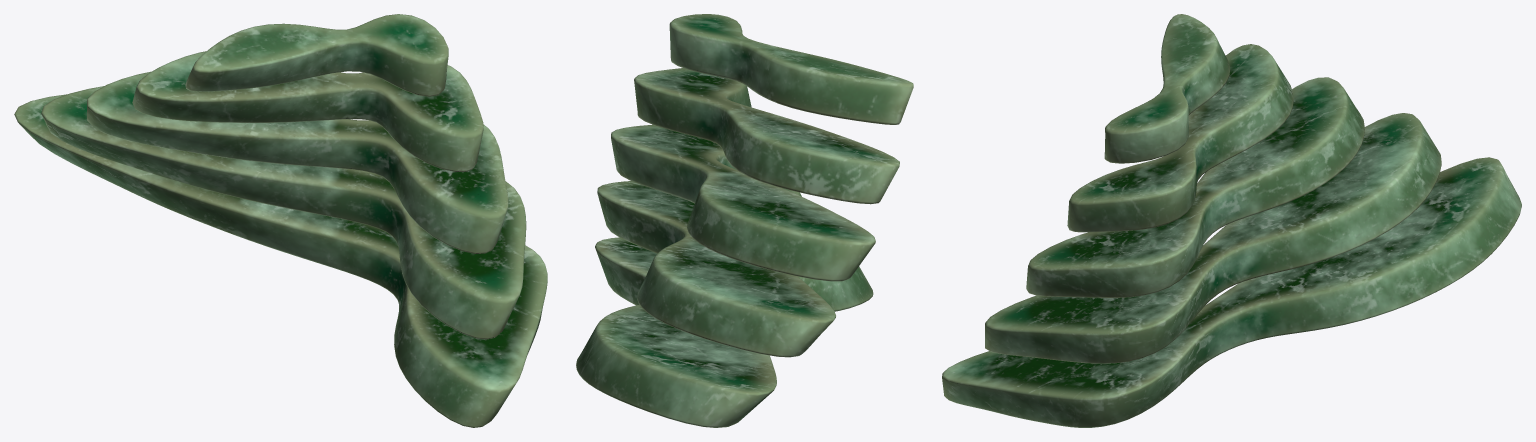
The model's file is Decor_2.glb.
The picture shows the model from 3 angles, left to right: view 1: azimuth 30°, elevation 25°; view 2: azimuth 150°, elevation 25°; view 3: azimuth 270°, elevation 25°; orthographic projection. The views are drawn at different scales.
Parts seen in each view (by area): view 1: Material1; view 2: Material1; view 3: Material1.
Part boxes in pixels (bbox=[...]): Material1: bbox=[14, 14, 547, 427]; Material1: bbox=[576, 14, 913, 427]; Material1: bbox=[942, 14, 1521, 427].
Size of the model in its own units: 293 by 255 by 431.
1 material, 1 textured.
